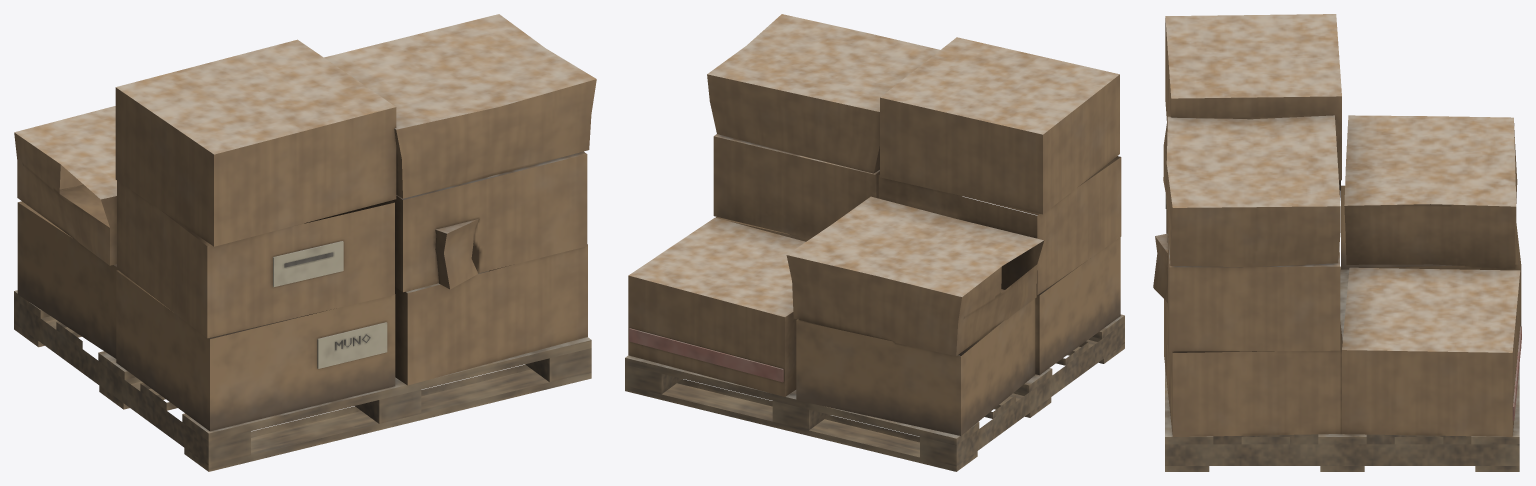
File: pallet_boxes.fbx
The picture shows the model from 3 angles, left to right: view 1: azimuth 30°, elevation 25°; view 2: azimuth 150°, elevation 25°; view 3: azimuth 270°, elevation 25°; orthographic projection. The views are drawn at different scales.
Parts seen in each view (by area): view 1: Body; view 2: Body; view 3: Body.
Part boxes in pixels (<box>): Body: <box>14,14,596,471</box>; Body: <box>625,14,1124,471</box>; Body: <box>1153,14,1521,471</box>.
Bounding box in the file's own units: 5.22 × 3.94 × 4.57.
Materials: 1 (1 with a texture image).
